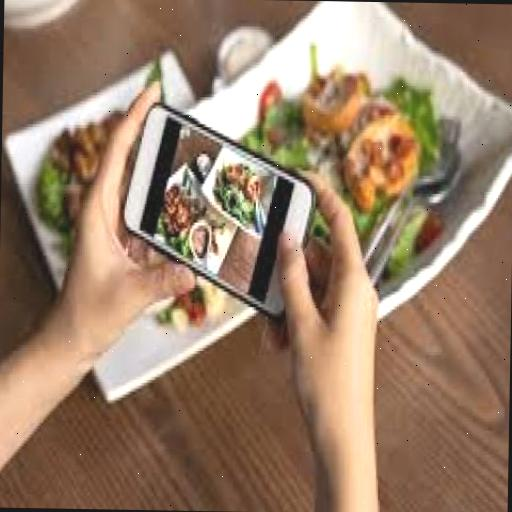phone: (141, 99, 312, 326)
